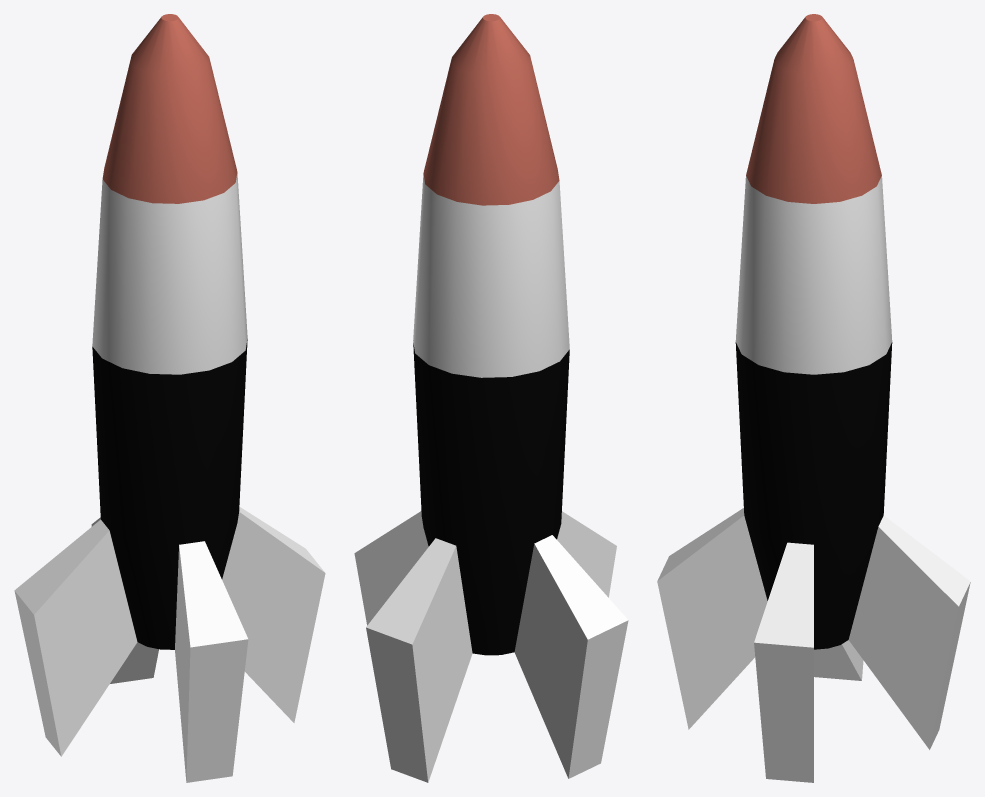
Rendered from missel.fbx.
The picture shows the model from 3 angles, left to right: view 1: azimuth 30°, elevation 25°; view 2: azimuth 150°, elevation 25°; view 3: azimuth 270°, elevation 25°; orthographic projection.
Visible parts, largest first — view 1: Cylinder; view 2: Cylinder; view 3: Cylinder.
Boxes of the visible parts, box(x1,y1,x2,y2) form: Cylinder: box(14, 14, 325, 782); Cylinder: box(354, 14, 628, 782); Cylinder: box(657, 14, 970, 782).
Size of the model in its own units: 86.85 by 218 by 86.85.
